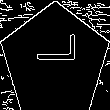L_W: (31, 46, 79, 76)
